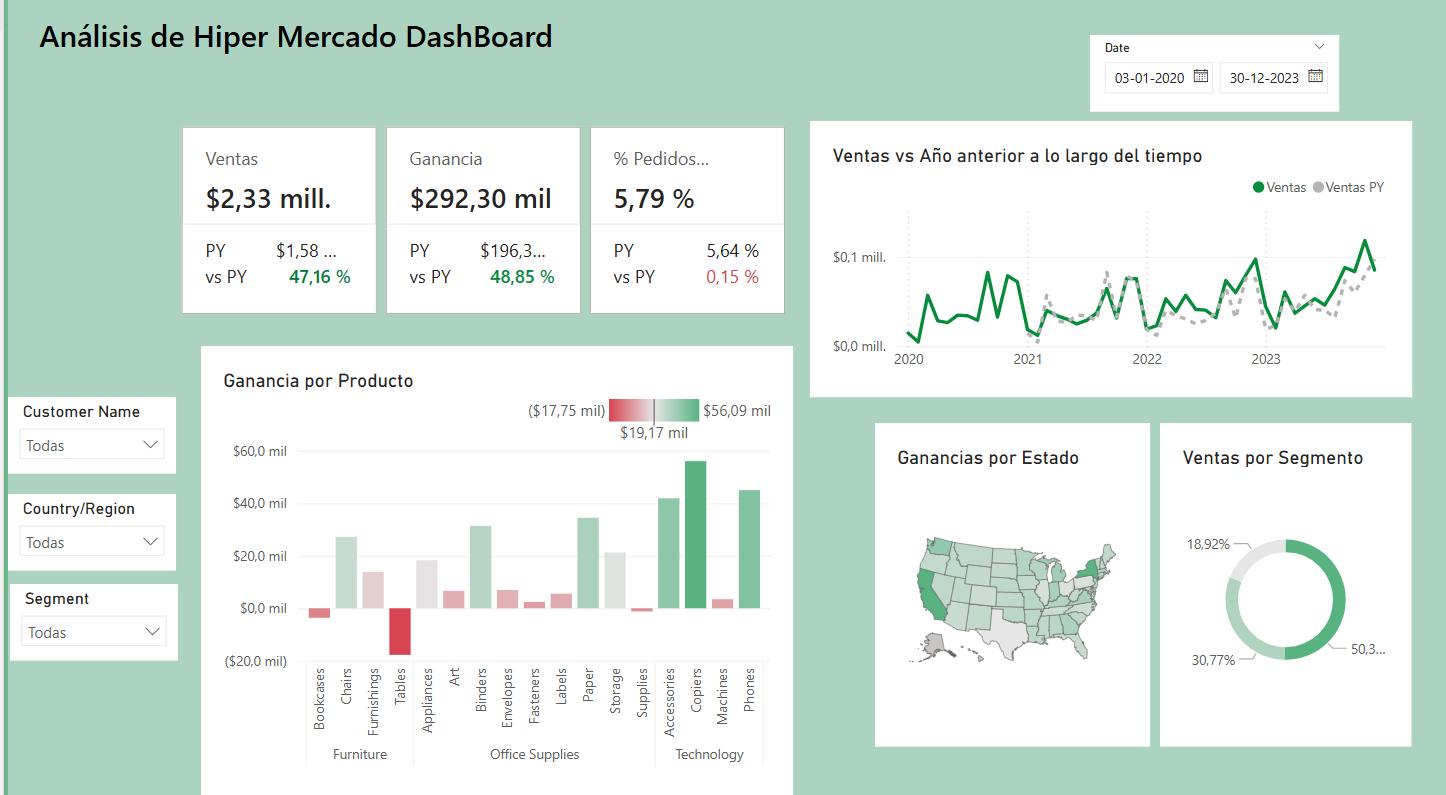

This screenshot's page, from the dashboard's own definition file:
{"tool":"powerbi","page":{"name":"Hiper Mercado","canvas":[1280,720],"ordinal":0},"visuals":[{"type":"cardVisual","fields":{"Data":["Medidas Claves.Ventas","Medidas Claves.Ganancia","Medidas Claves.% Pedidos Devueltos"]},"box":[149.1,115.5,547.3,176.4],"z":0},{"type":"shape","box":[2.2,0,1277.8,77.8],"z":1000},{"type":"columnChart","title":"Ganancia por Producto","fields":{"Y":["Medidas Claves.Ganancia"],"Category":["Orders.Category","Orders.Sub-Category"]},"box":[170.9,314.5,525.5,399.1],"z":2000},{"type":"lineChart","title":"Ventas vs Año anterior a lo largo del tiempo","fields":{"Y":["Medidas Claves.Ventas","Medidas Claves.Ventas PY"],"Category":["Tabla de Tiempo.Inicio de Mes"]},"box":[710.9,115.5,533.6,244.5],"z":3000},{"type":"shapeMap","title":"Ganancias por Estado","fields":{"Value":["Medidas Claves.Ganancia"],"Category":["Orders.State/Province"]},"box":[769.1,382.7,243.6,287.3],"z":4000},{"type":"donutChart","title":"Ventas por Segmento","fields":{"Y":["Medidas Claves.Ventas"],"Category":["Orders.Segment"]},"box":[1021.8,382.7,222.7,287.3],"z":5000},{"type":"slicer","fields":{"Values":["Orders.Customer Name"]},"box":[0,360,149,68],"z":6000},{"type":"slicer","fields":{"Values":["Orders.Country/Region"]},"box":[0,446,149,68],"z":7000},{"type":"slicer","fields":{"Values":["Orders.Segment"]},"box":[2,526,149,68],"z":8000},{"type":"slicer","fields":{"Values":["Tabla de Tiempo.Date"]},"box":[959,39,221,68],"z":9000}]}

Visuals, with their boxes in screenshot pixels (x1, y1, x2, y2), scaled from the page's 1280x720 canvas onto the 1446x795 screenshot:
cardVisual - Medidas Claves.Ventas x Medidas Claves.Ganancia: (168,128,787,322)
shape: (2,0,1445,86)
"Ganancia por Producto" columnChart: (193,347,787,788)
"Ventas vs Año anterior a lo largo del tiempo" lineChart: (803,128,1406,398)
"Ganancias por Estado" shapeMap: (869,423,1144,740)
"Ventas por Segmento" donutChart: (1154,423,1406,740)
slicer - Orders.Customer Name: (0,398,168,473)
slicer - Orders.Country/Region: (0,492,168,568)
slicer - Orders.Segment: (2,581,171,656)
slicer - Tabla de Tiempo.Date: (1083,43,1333,118)
